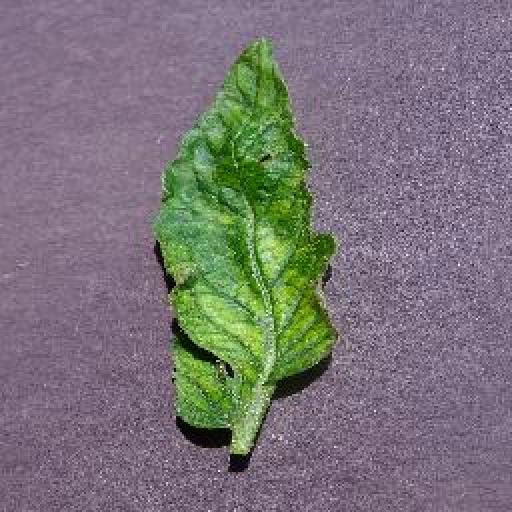Mosaic Virus: (152, 29, 342, 431)
